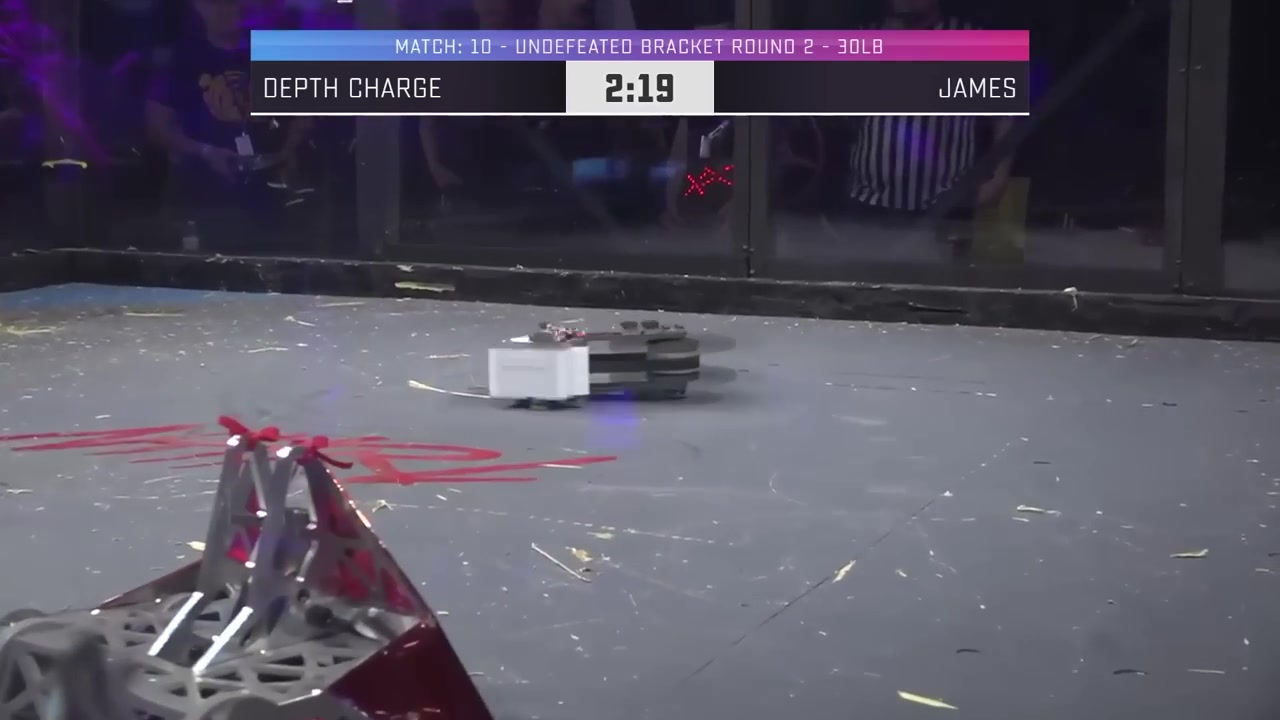combatbot: (0, 424, 490, 715), (484, 323, 705, 407)
